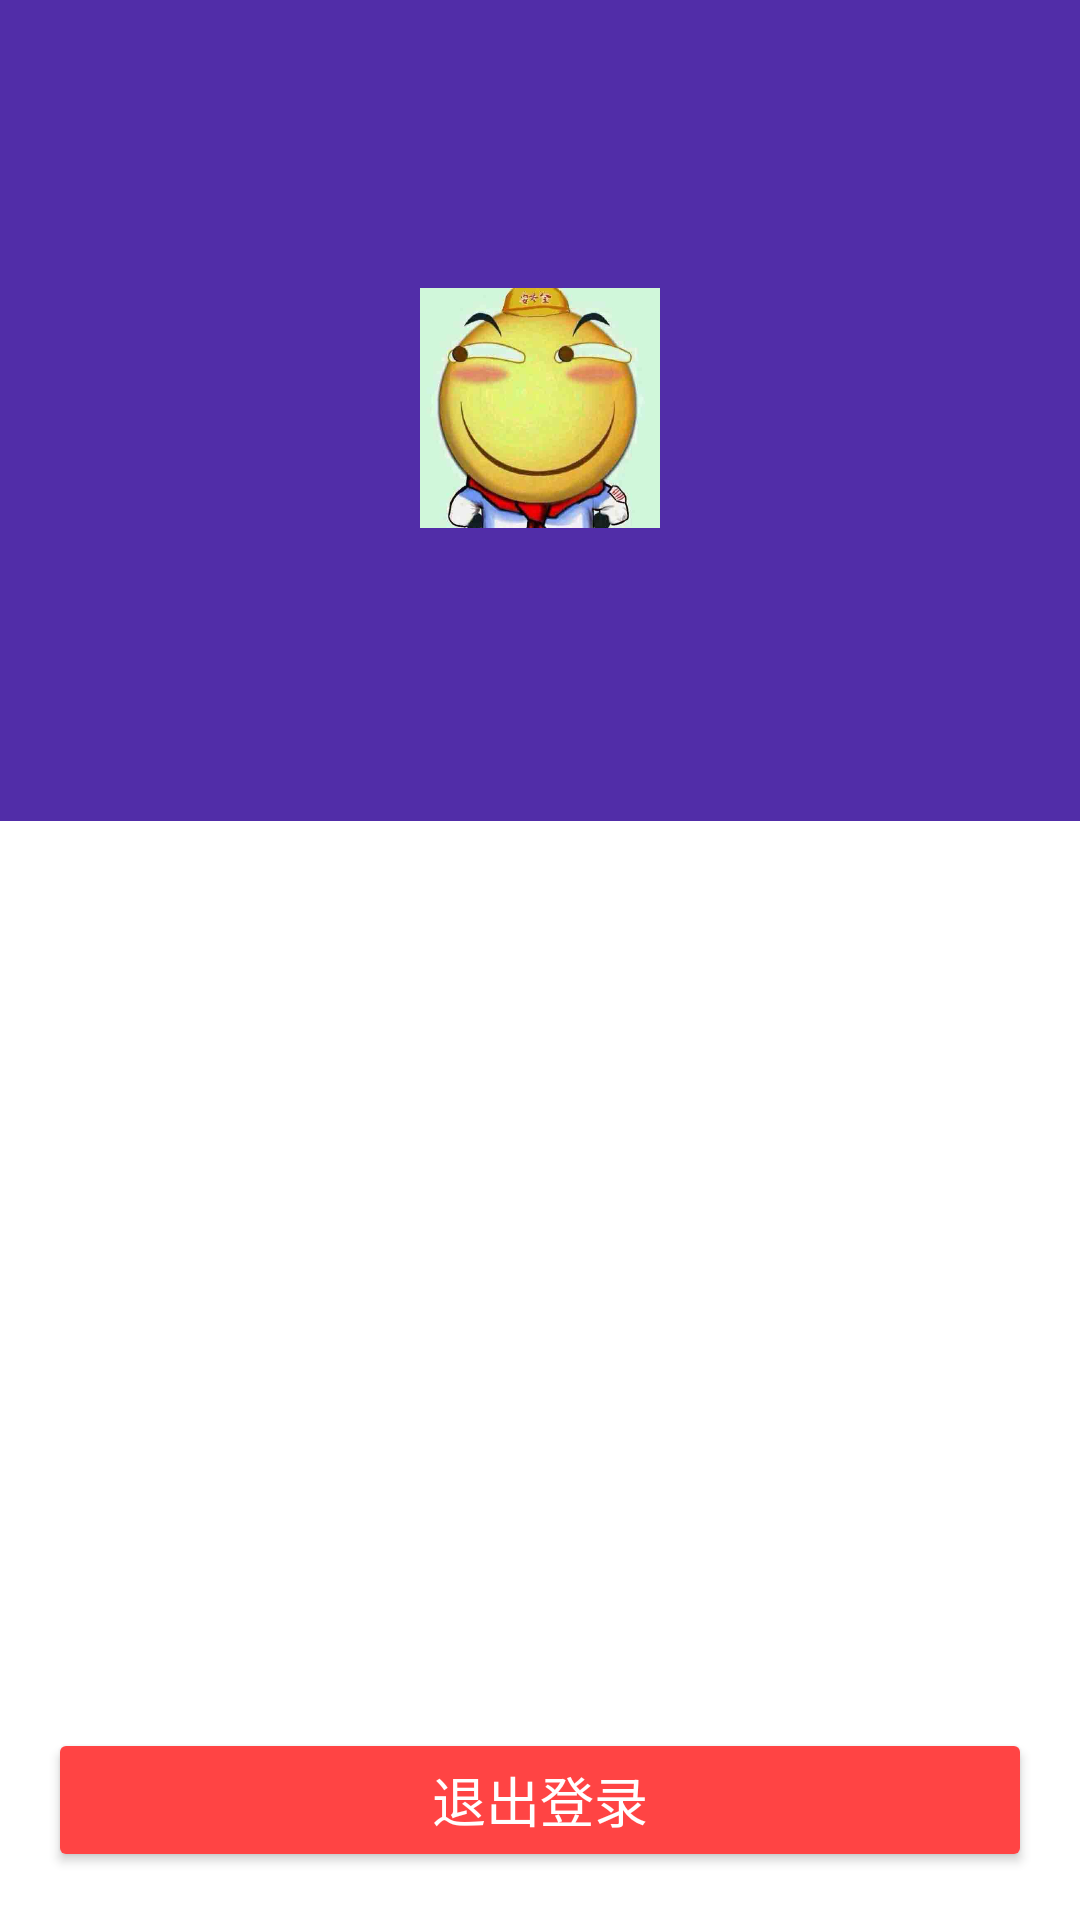

Icon click points for this 1080*1920 phone screenshot, format [x,y]:
头像: [540,408]
